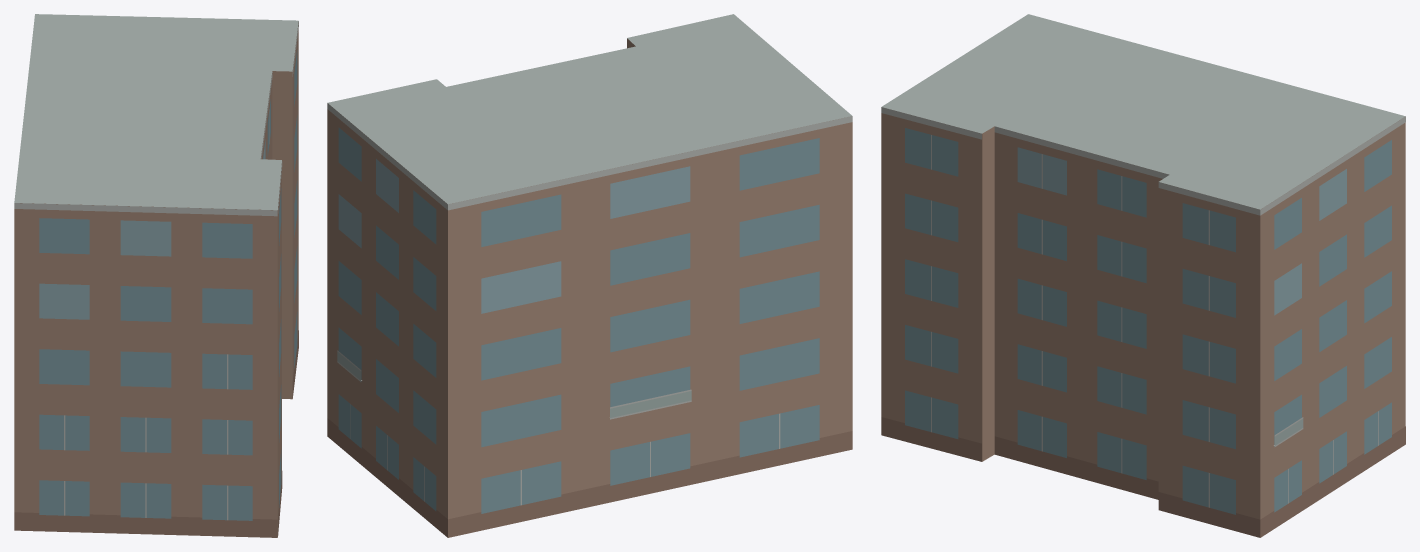
Rendered from survey-upis-32983907.glb.
3 renders of one model, left to right at view 1: azimuth 30°, elevation 25°; view 2: azimuth 150°, elevation 25°; view 3: azimuth 270°, elevation 25°, orthographic.
Parts seen in each view (by area): view 1: survey-upis-32983907.tmp; view 2: survey-upis-32983907.tmp; view 3: survey-upis-32983907.tmp.
Part boxes in pixels (x1=…): survey-upis-32983907.tmp: x1=14, y1=14, x2=298, y2=537; survey-upis-32983907.tmp: x1=327, y1=14, x2=852, y2=537; survey-upis-32983907.tmp: x1=881, y1=14, x2=1405, y2=537.
Bounding box in the file's own units: 17.01 × 13.3 × 19.27.
